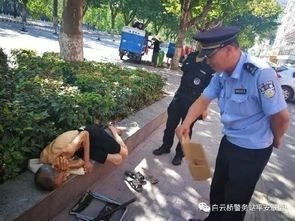falling: (26, 119, 134, 192)
